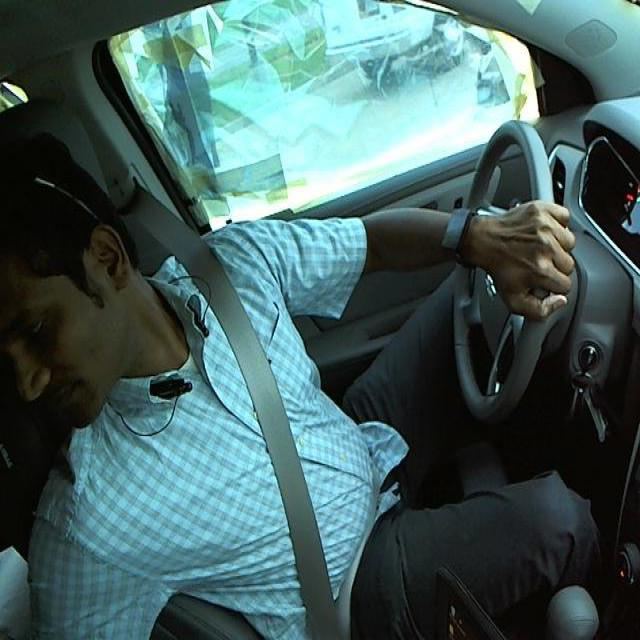seatbelt: (157, 241, 380, 639)
